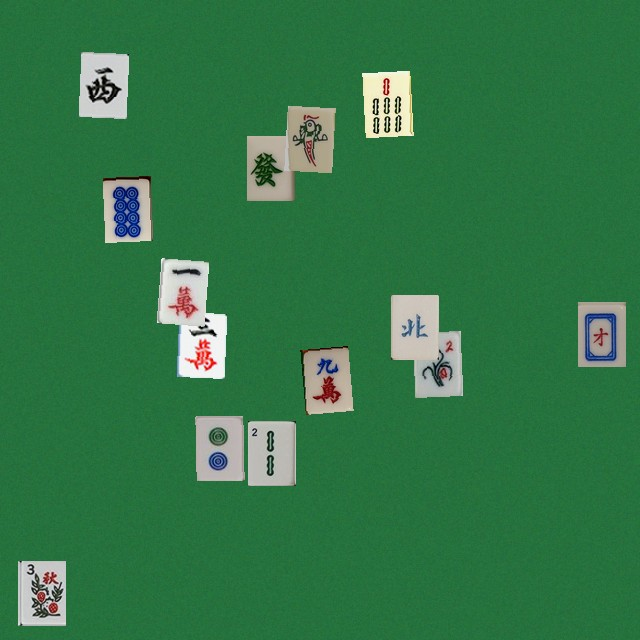tile: (78, 51, 126, 116), (362, 70, 410, 135), (300, 346, 348, 411), (577, 301, 625, 366), (176, 311, 224, 376), (17, 560, 65, 625), (246, 135, 294, 200), (102, 175, 150, 240), (412, 330, 460, 395), (156, 258, 204, 323), (390, 294, 438, 359), (284, 105, 332, 170), (195, 415, 243, 480), (247, 420, 295, 485)
